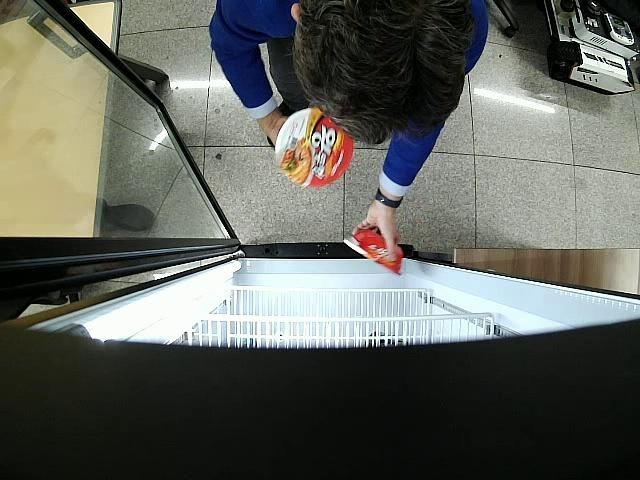10_wangTtukkeong: (276, 107, 354, 186), (343, 230, 402, 276)
